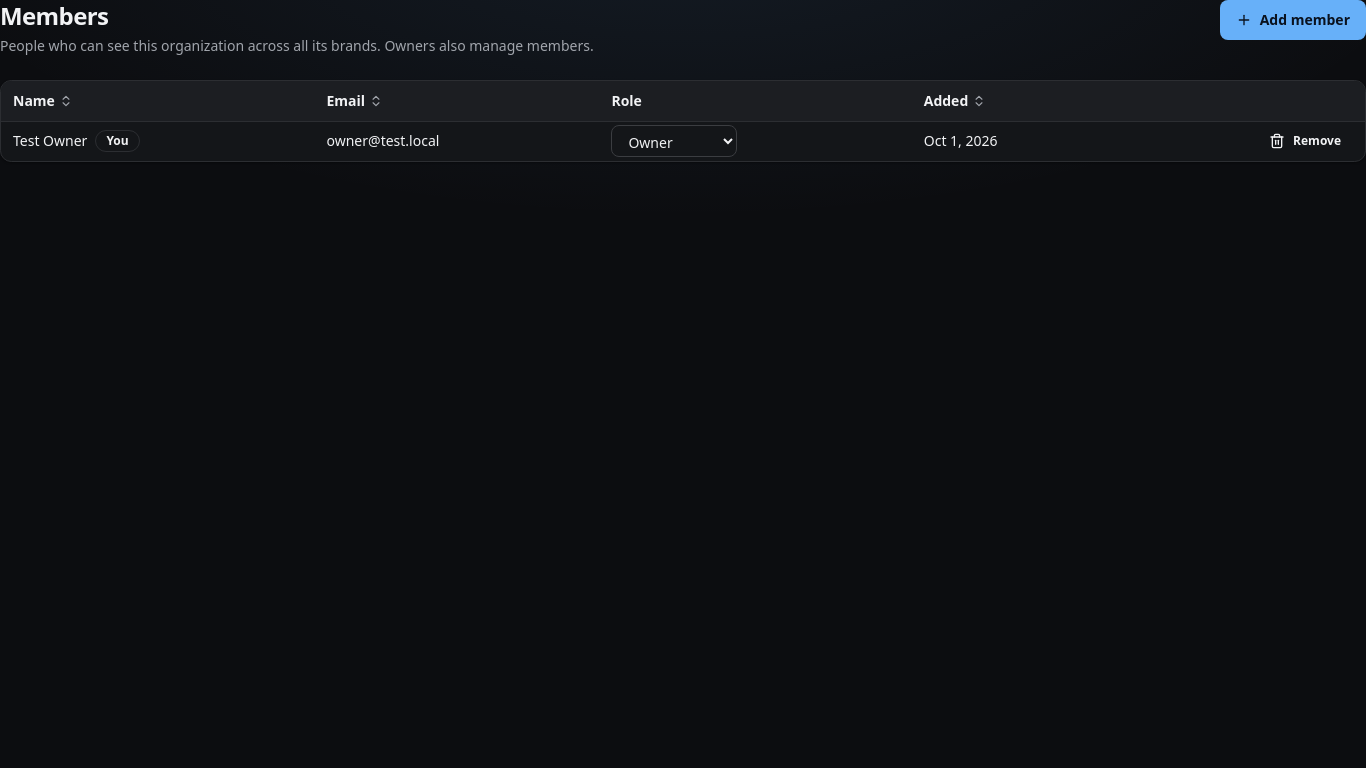
Test: organization members page › shows the last-owner error as a toast
Click the button "Remove ".
click(1305, 141)  # box [1257,125,1353,157]
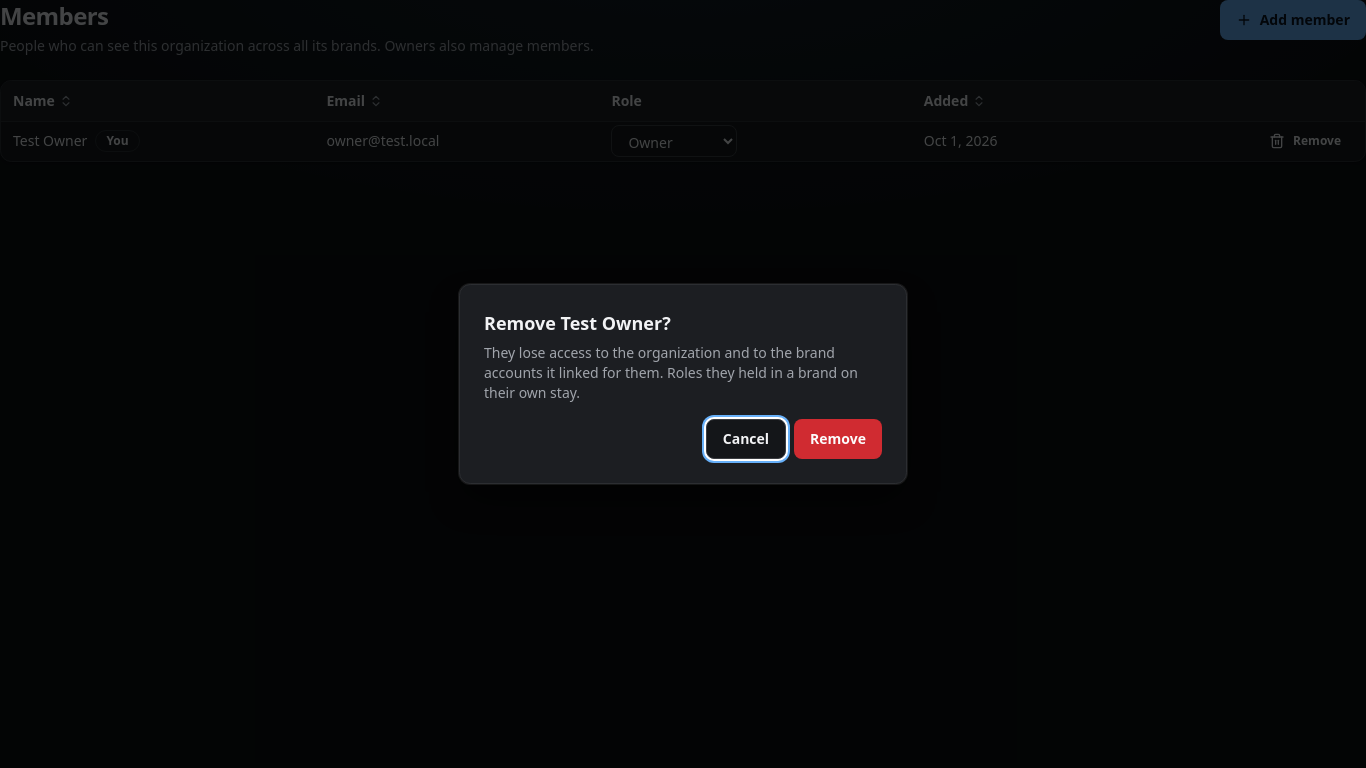
Click the button "Remove".
click(838, 439)  # box [794,419,882,459]
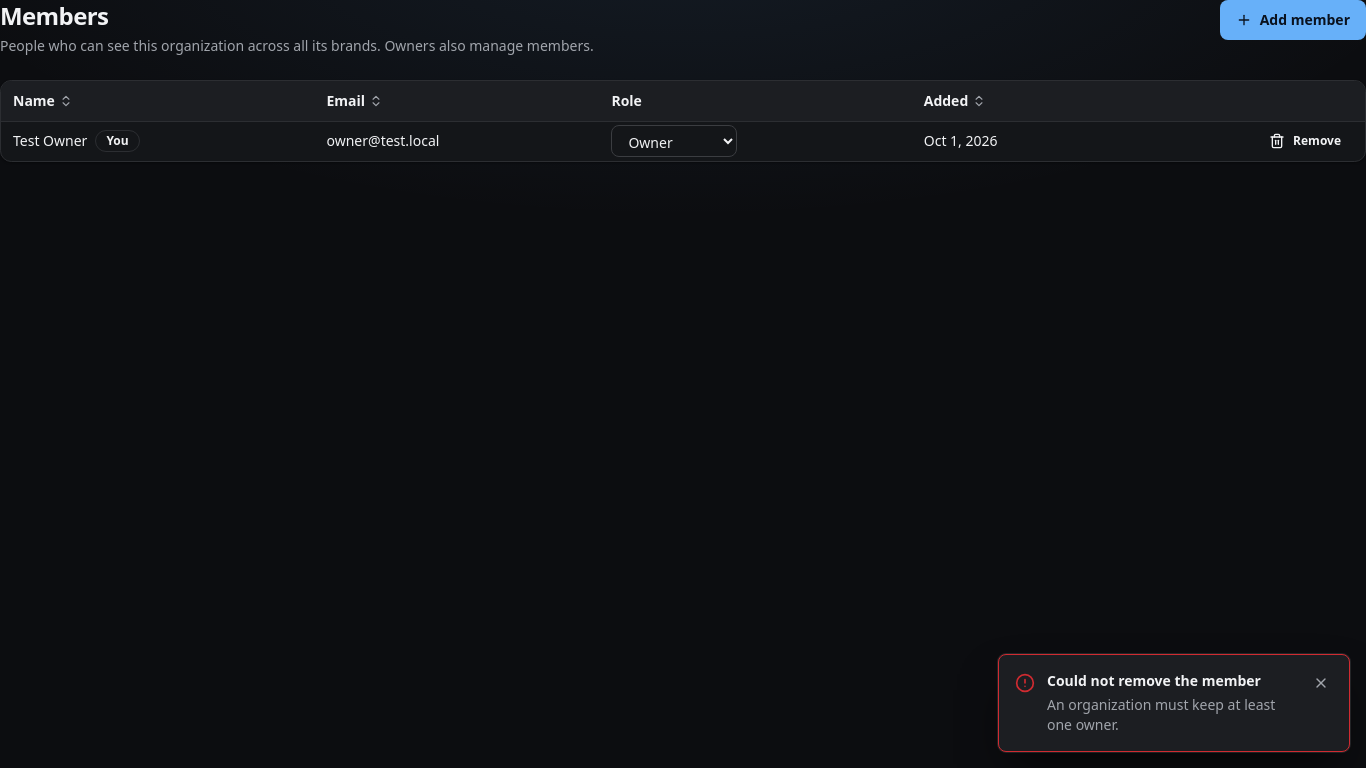
Now the text "Could not remove the member" is shown, box [1047,671,1297,691]
Now the text "An organization must keep at least one owner." is shown, box [1047,695,1297,735]
